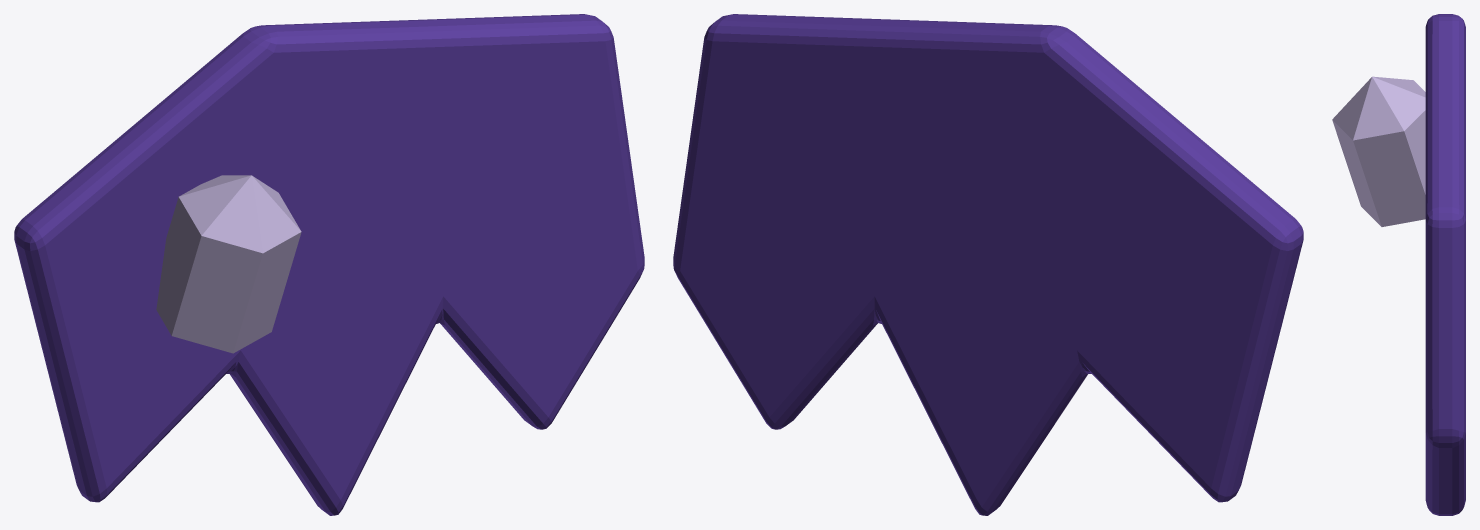
Rendered from mat_echowing.glb.
3 renders of one model, left to right at view 1: azimuth 30°, elevation 25°; view 2: azimuth 150°, elevation 25°; view 3: azimuth 270°, elevation 25°, orthographic. The views are drawn at different scales.
Visible parts, largest first — view 1: _crystal; view 2: _crystal; view 3: _crystal.
Boxes of the visible parts, <box> form: _crystal: <box>14,14,644,515</box>; _crystal: <box>673,14,1303,515</box>; _crystal: <box>1332,14,1465,515</box>.
Size of the model in its own units: 0.8926 by 0.6865 by 0.1997.
